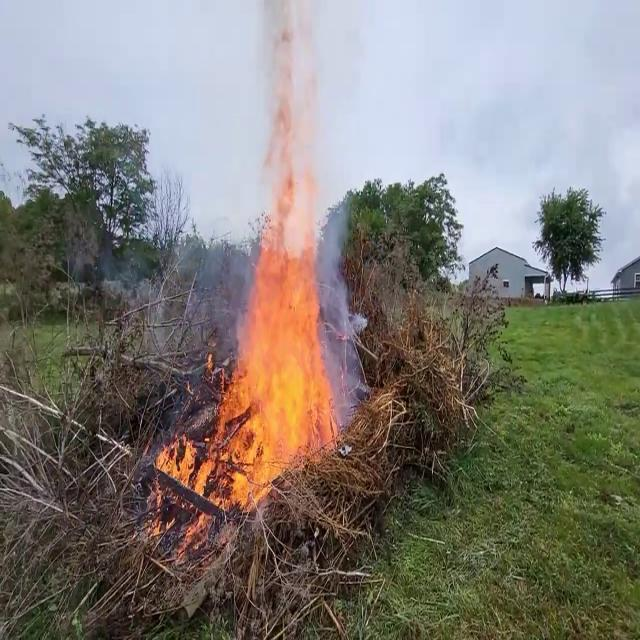Fire: (152, 195, 346, 524), (206, 208, 342, 502)
